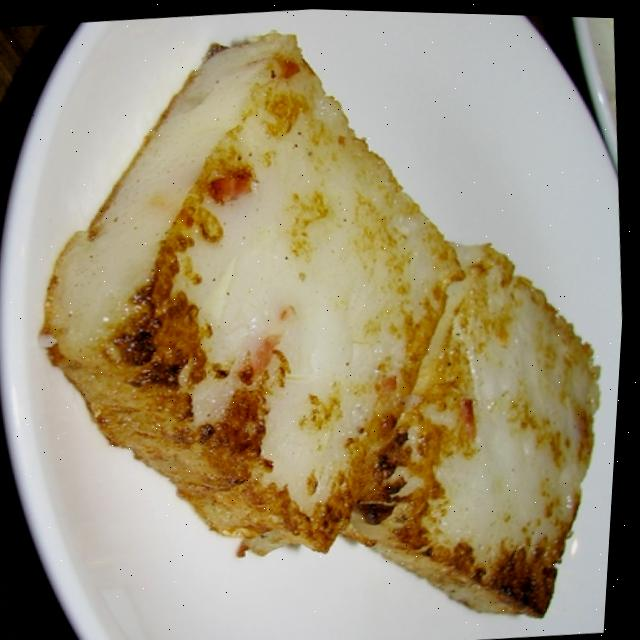蛋糕甜品: (5, 6, 640, 640)
